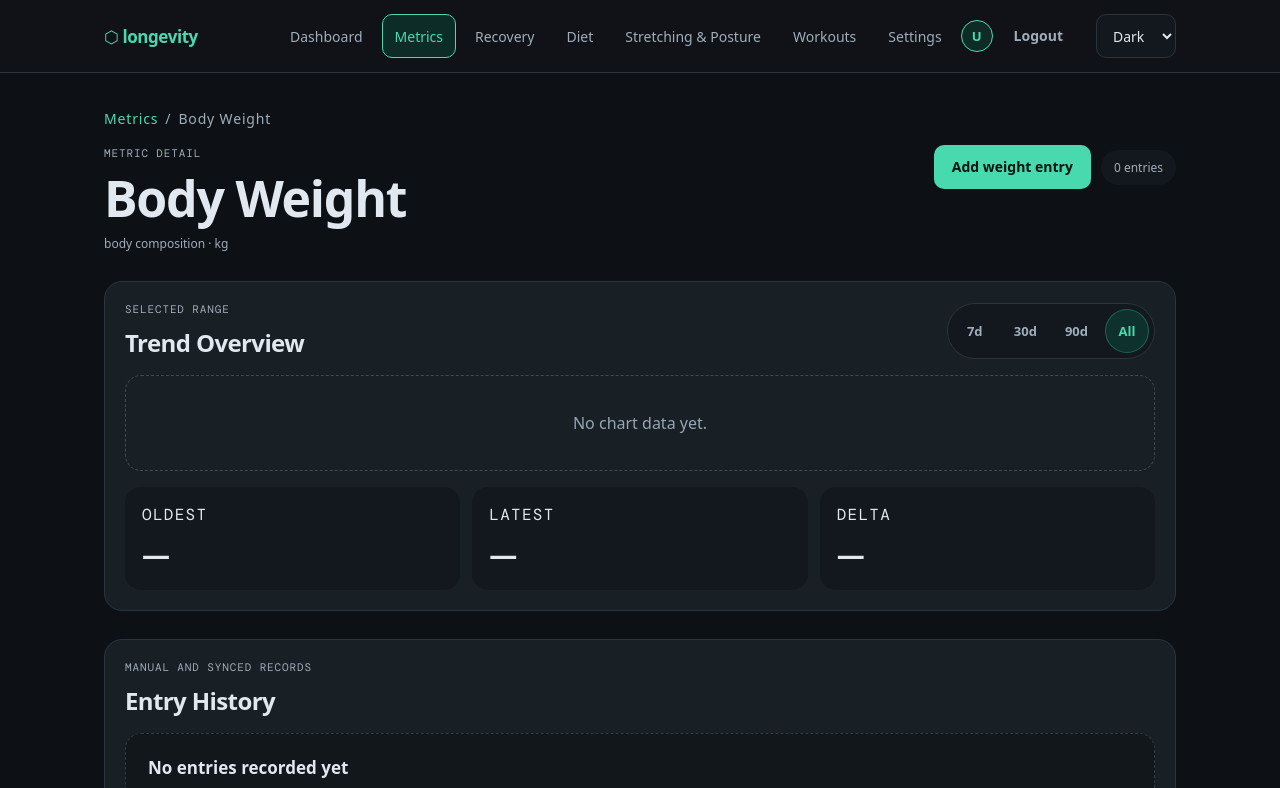
Test: metric detail route › adds a manual weight entry from the Body Weight detail page
Click the button "Add weight entry" at coordinates (1012, 167), box [934,145,1091,189]
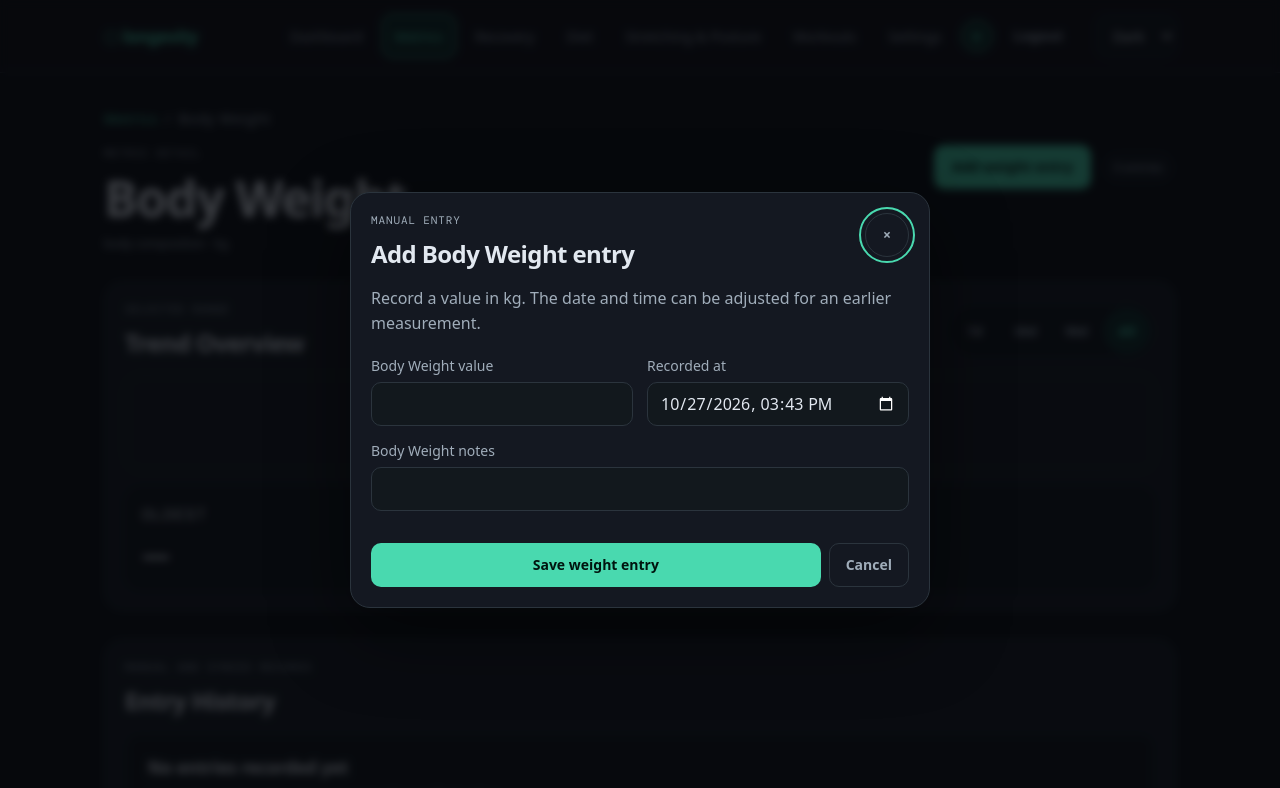
Type "72.4" into the number field labelled "Body Weight value" at coordinates (502, 404), box [371,382,633,426]
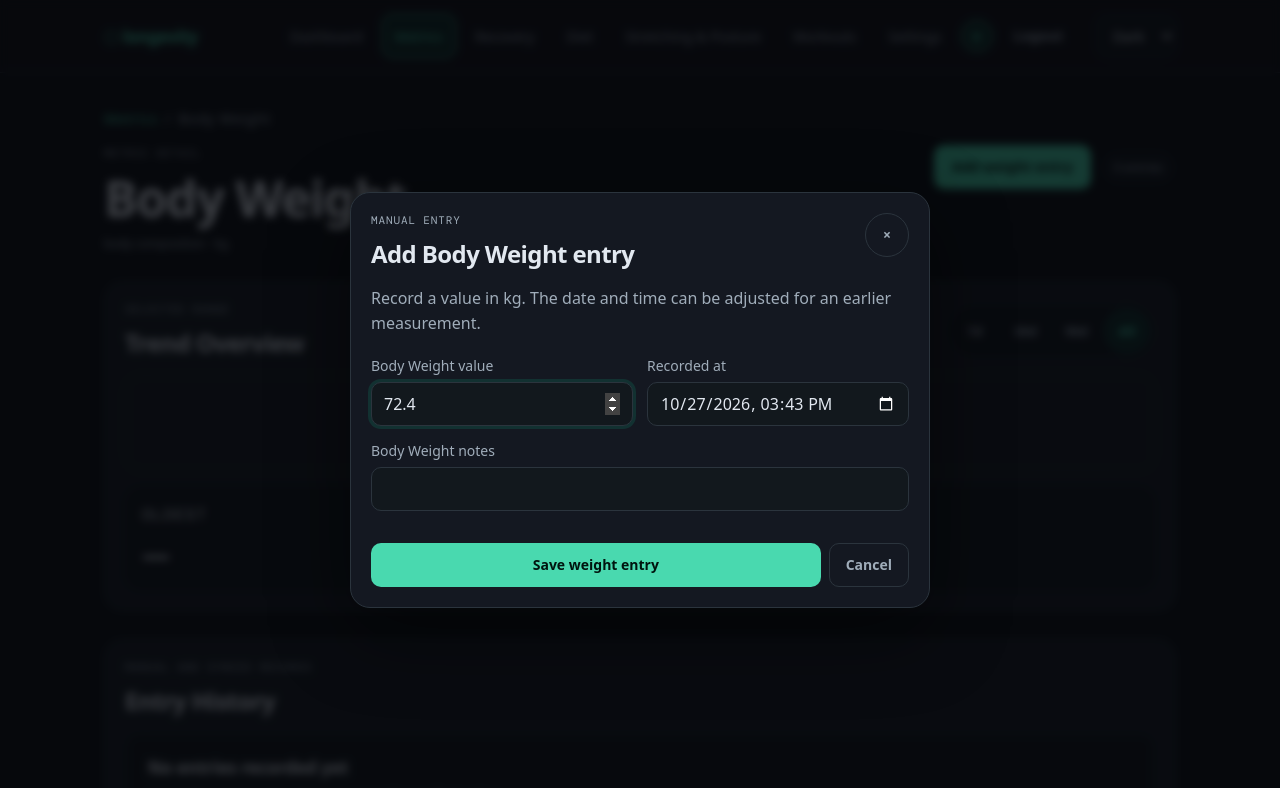
Replace the text in the field labelled "Recorded at" with "2026-09-20T08:30" at coordinates (778, 404), box [647,382,909,426]
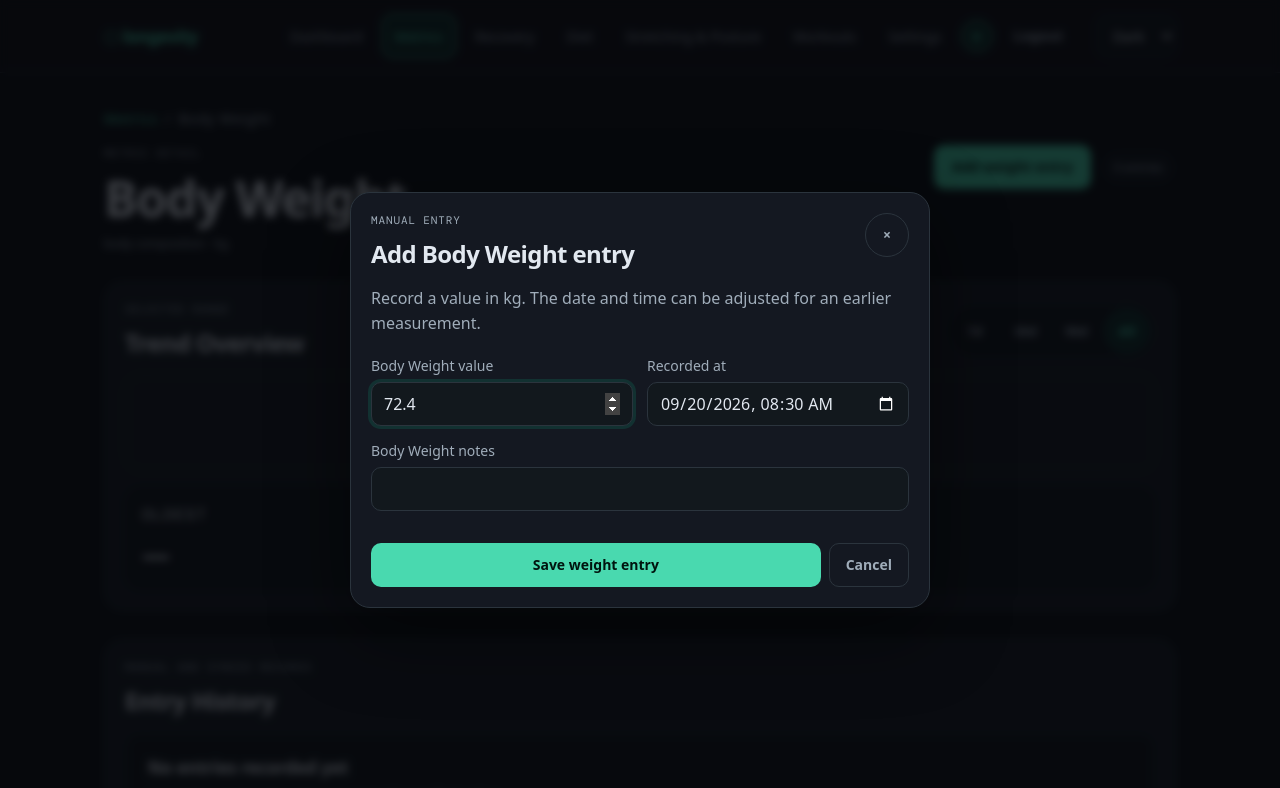
Type "Morning weigh-in" into the field labelled "Body Weight notes" at coordinates (640, 489), box [371,467,909,511]
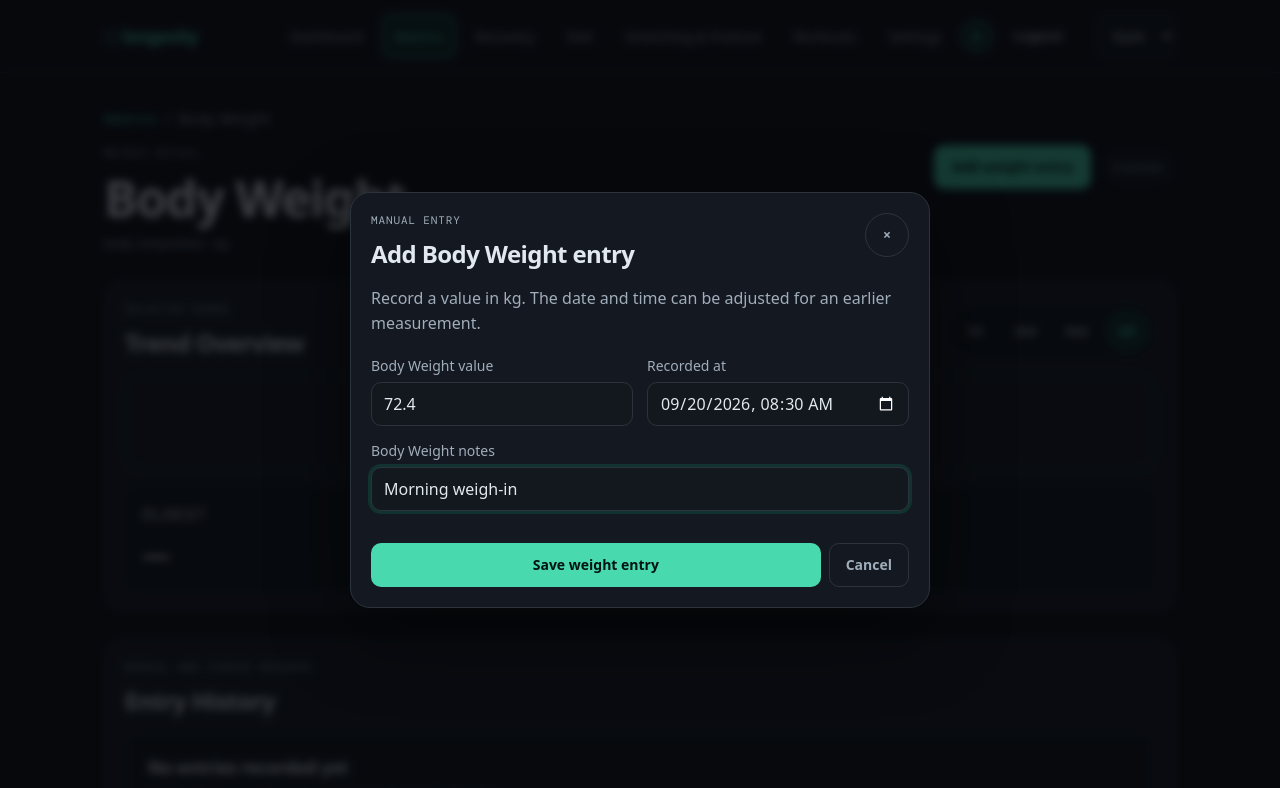
Click the button "Save weight entry" at coordinates (596, 565), box [371,543,821,587]
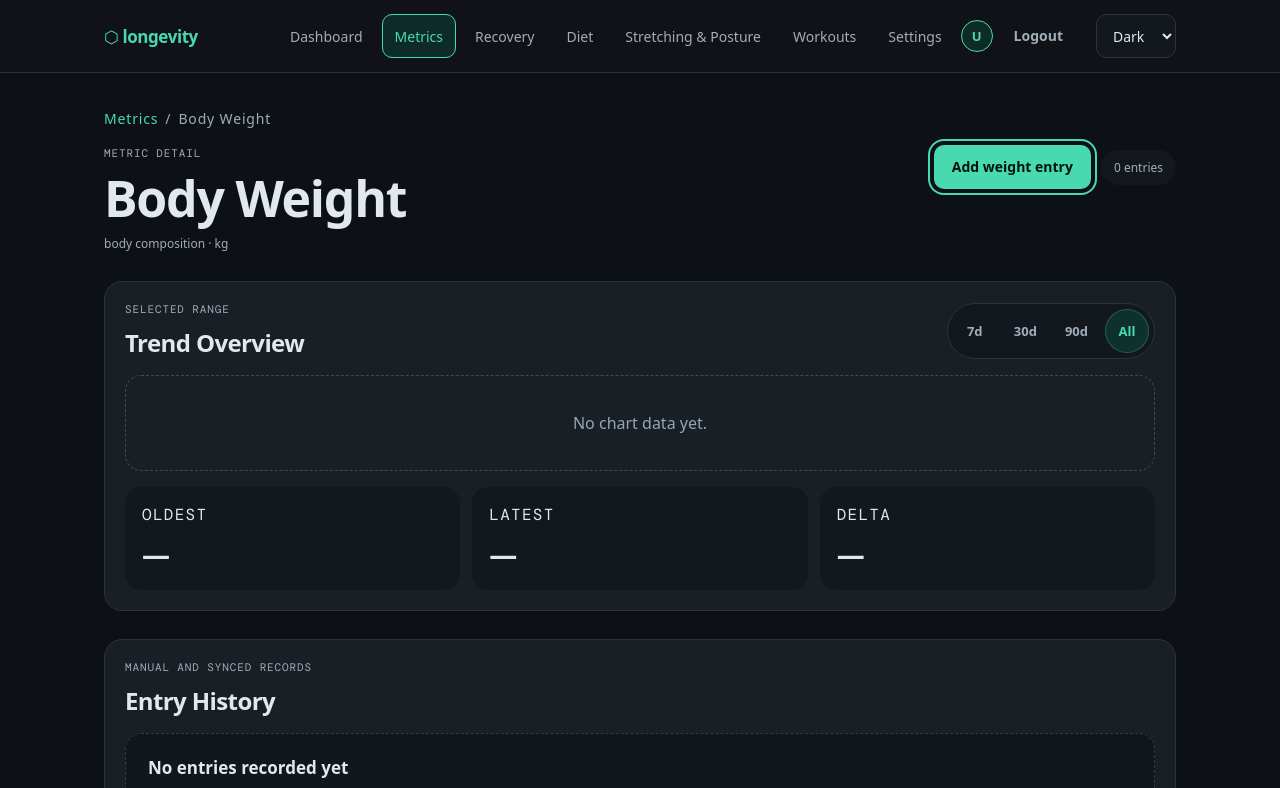
Now the heading "Add Body Weight entry" is gone
